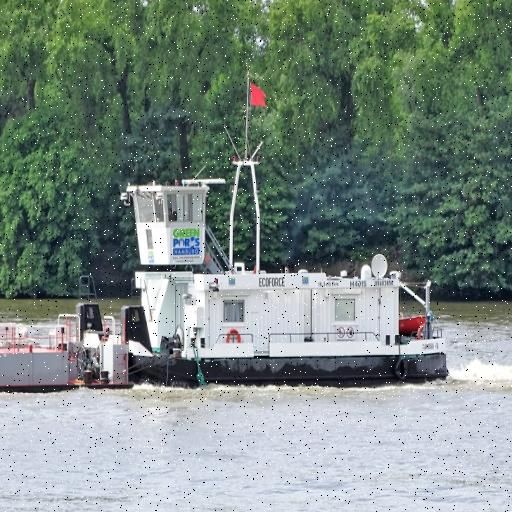tugboat: (63, 157, 460, 397)
